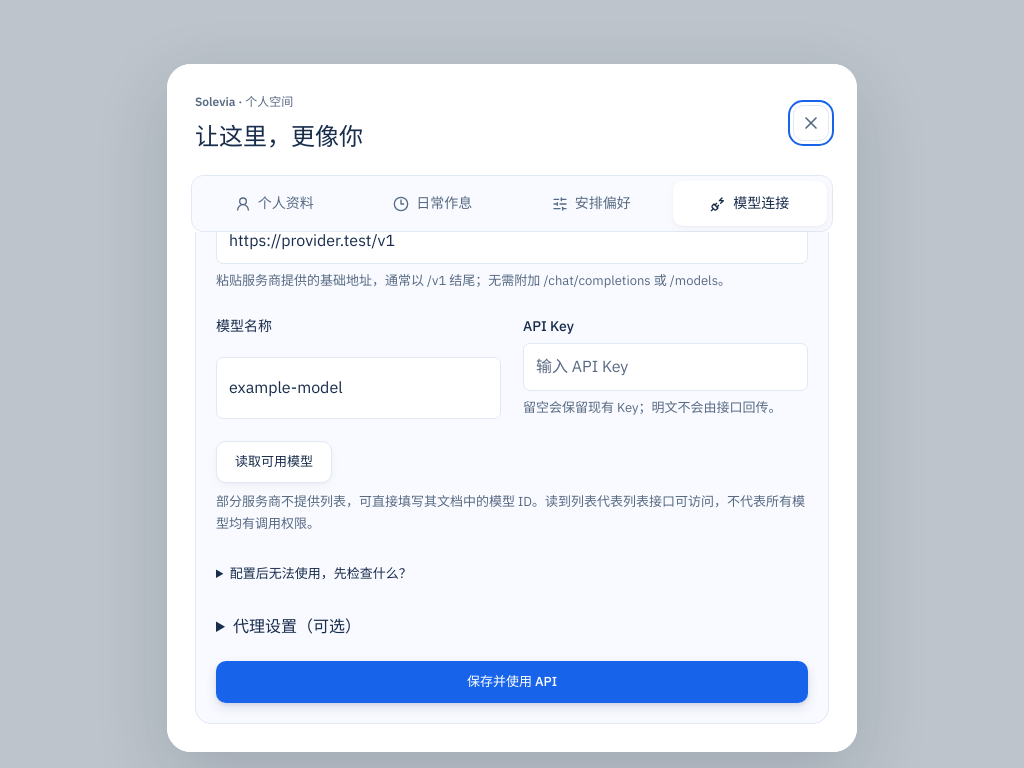
Test case: requires a key before saving a first-time API profile
(page scrolled)
Expected: the button "读取可用模型" is shown, top-left (216, 441), bottom-right (332, 483)
Step 1. Click the button "保存并使用 API" → (512, 682), box top-left (216, 661), bottom-right (808, 703)
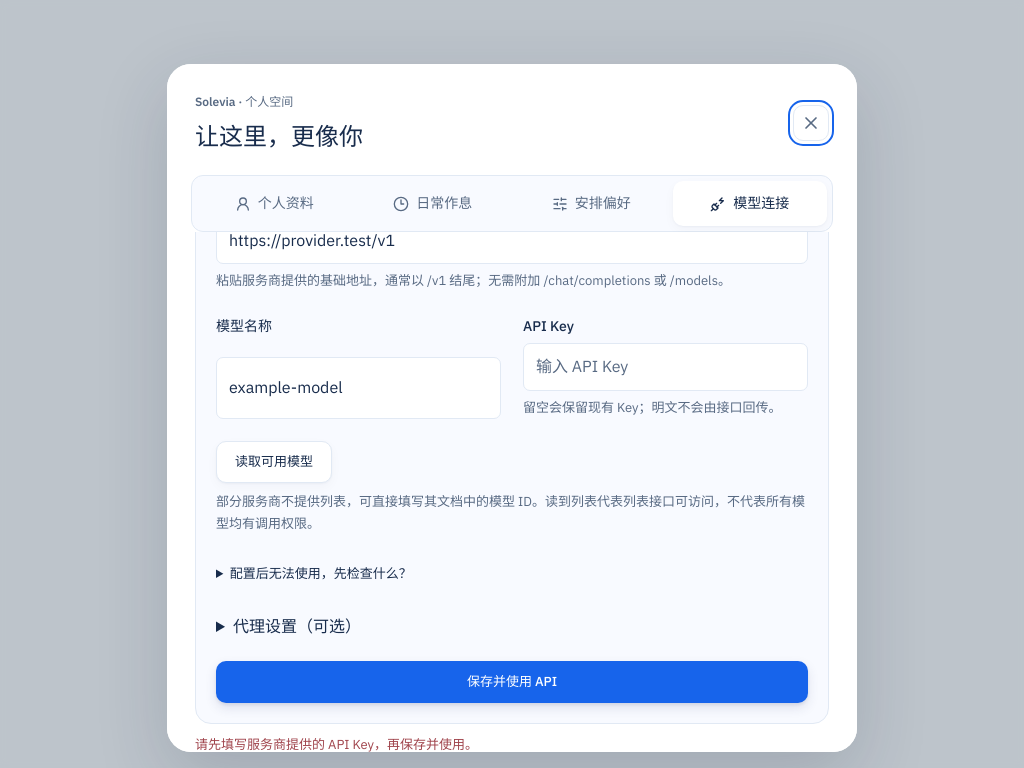
Expected: the message shows "请先填写服务商提供的 API Key", top-left (195, 736), bottom-right (478, 752)
